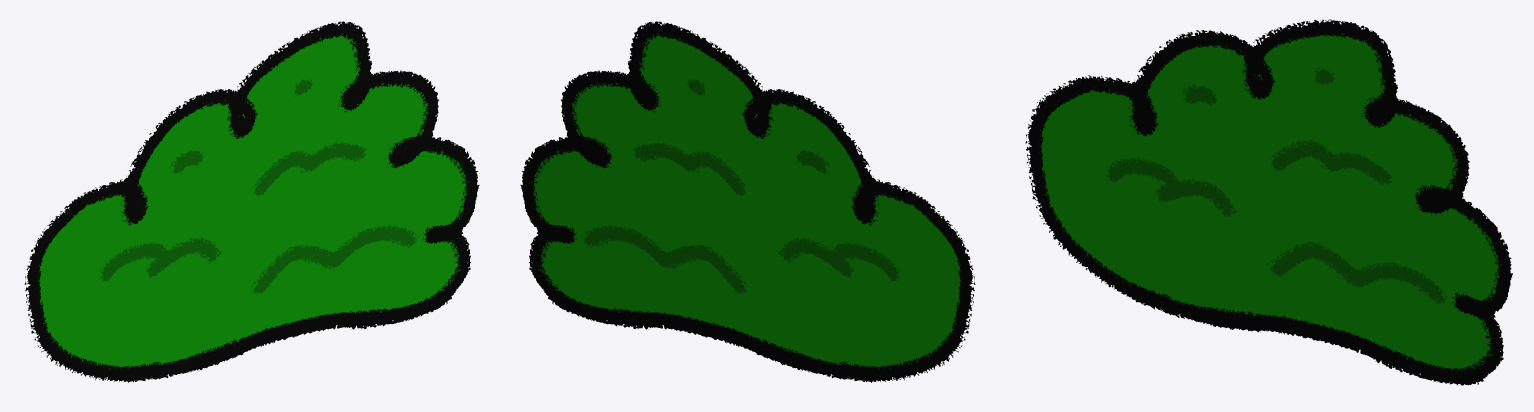
The model's file is Bush1.fbx.
The picture shows the model from 3 angles, left to right: view 1: azimuth 30°, elevation 25°; view 2: azimuth 150°, elevation 25°; view 3: azimuth 330°, elevation 25°; orthographic projection. The views are drawn at different scales.
Visible parts, largest first — view 1: Bush1; view 2: Bush1; view 3: Bush1.
Part boxes in pixels (x1=…): Bush1: x1=24, y1=21, x2=479, y2=382; Bush1: x1=520, y1=21, x2=975, y2=382; Bush1: x1=1025, y1=19, x2=1512, y2=385.
Size of the model in its own units: 240 by 162 by 3.61e-05.
